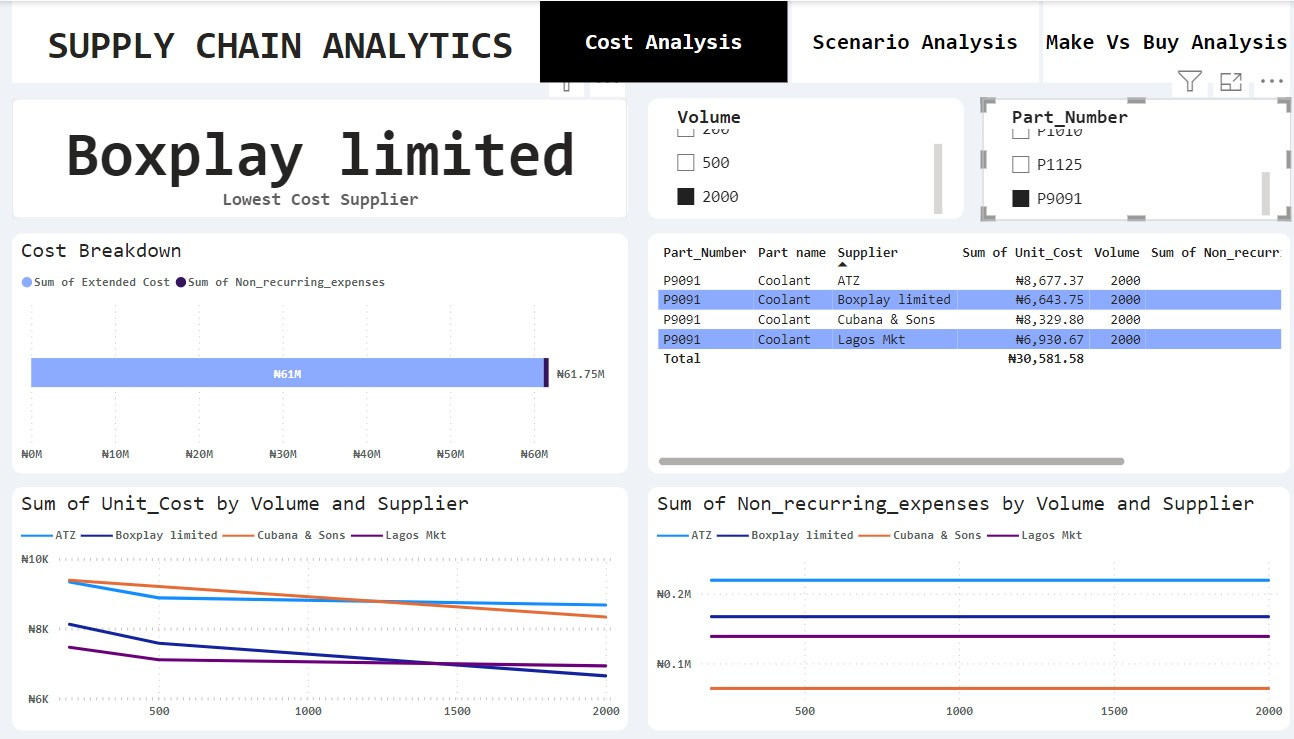

The dashboard page shown, as its layout file describes it:
{"tool":"powerbi","page":{"name":"Cost Analysis","canvas":[1280,720],"ordinal":0},"visuals":[{"type":"tableEx","fields":{"Values":["Quote.Part_Number","Quote.Part name","Quote.Supplier","Sum(Quote.Unit_Cost)","Quote.Volume","Sum(Quote.Non_recurring_expenses)","Quote.Full Cost"]},"box":[640.7,224.9,622.9,233],"z":0},{"type":"lineChart","fields":{"Category":["Quote.Volume"],"Y":["Sum(Quote.Unit_Cost)"],"Series":["Quote.Supplier"]},"box":[22.7,470.8,597,236.2],"z":1000},{"type":"lineChart","fields":{"Category":["Quote.Volume"],"Y":["Sum(Quote.Non_recurring_expenses)"],"Series":["Quote.Supplier"]},"box":[640.7,470.8,622.9,236.2],"z":2000},{"type":"slicer","fields":{"Values":["Quote.Part_Number"]},"box":[964.3,93.8,299.3,118.1],"z":3000},{"type":"slicer","fields":{"Values":["Quote.Volume"]},"box":[640.7,93.8,305.8,116.5],"z":4000},{"type":"card","fields":{"Values":["Min(Quote.Supplier)"]},"box":[22.7,93.8,597,116.5],"z":5000},{"type":"barChart","title":"Cost Breakdown","fields":{"Y":["Sum(Quote.Extended Cost)","Sum(Quote.Non_recurring_expenses)"]},"box":[22.7,224.9,597,233],"z":6000},{"type":"textbox","box":[22.7,0,512.9,79.3],"z":7000},{"type":"pageNavigator","box":[535.6,0,728.1,79.3],"z":8000}]}

Visuals, with their boxes on the page's 1280x720 design canvas (x1, y1, x2, y2). These are canvas units, not pixel positions in the 1294x739 screenshot, which may show the page scaled, cropped or inside an application window:
tableEx - Quote.Part_Number x Quote.Part name: 641, 225, 1264, 458
lineChart - Quote.Volume x Sum(Quote.Unit_Cost): 23, 471, 620, 707
lineChart - Quote.Volume x Sum(Quote.Non_recurring_expenses): 641, 471, 1264, 707
slicer - Quote.Part_Number: 964, 94, 1264, 212
slicer - Quote.Volume: 641, 94, 946, 210
card - Min(Quote.Supplier): 23, 94, 620, 210
"Cost Breakdown" barChart: 23, 225, 620, 458
textbox: 23, 0, 536, 79
pageNavigator: 536, 0, 1264, 79
